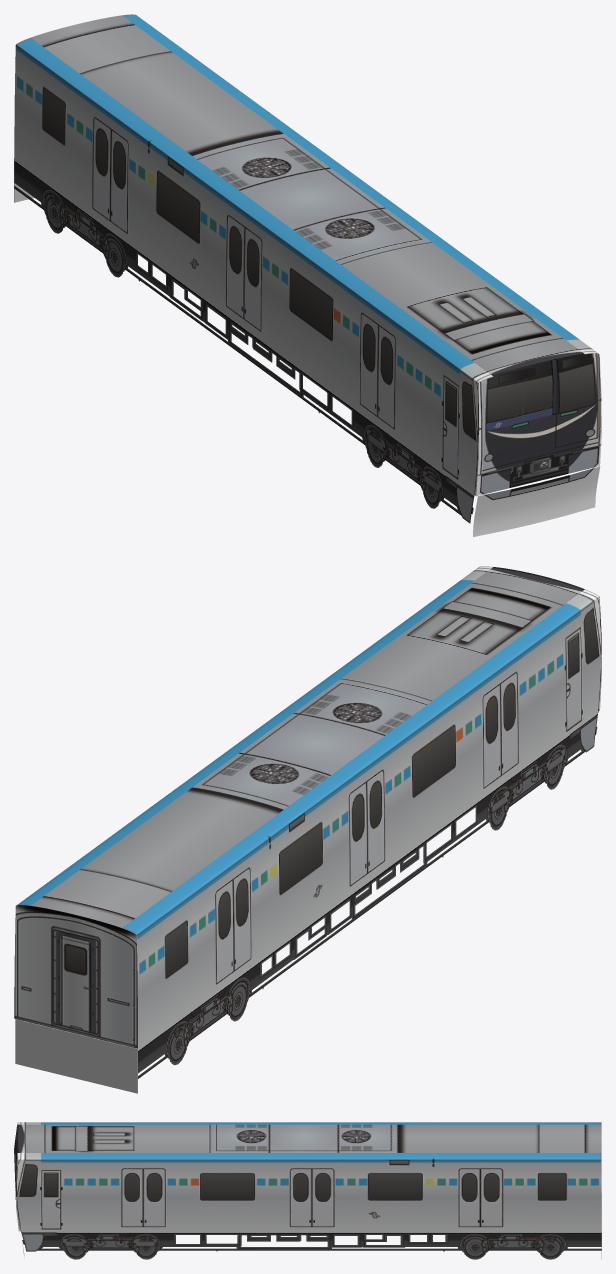
File: car1.glb
3 renders of one model, top to bottom at view 1: azimuth 30°, elevation 25°; view 2: azimuth 150°, elevation 25°; view 3: azimuth 270°, elevation 25°, orthographic. The views are drawn at different scales.
Parts seen in each view (by area): view 1: car1.glb; view 2: car1.glb; view 3: car1.glb.
Part boxes in pixels (x1,y1,x2,y2): car1.glb: [14, 14, 601, 536]; car1.glb: [14, 566, 601, 1093]; car1.glb: [14, 1122, 601, 1259].
Size of the model in its own units: 2.49 by 3.14 by 16.26.
Materials: 8 (7 with a texture image).
